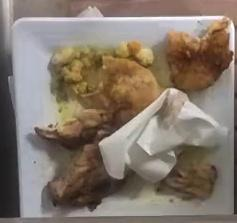chicken: (35, 125, 125, 214)
pork: (167, 21, 233, 92)
vegetables: (51, 41, 154, 84), (101, 64, 162, 112)
